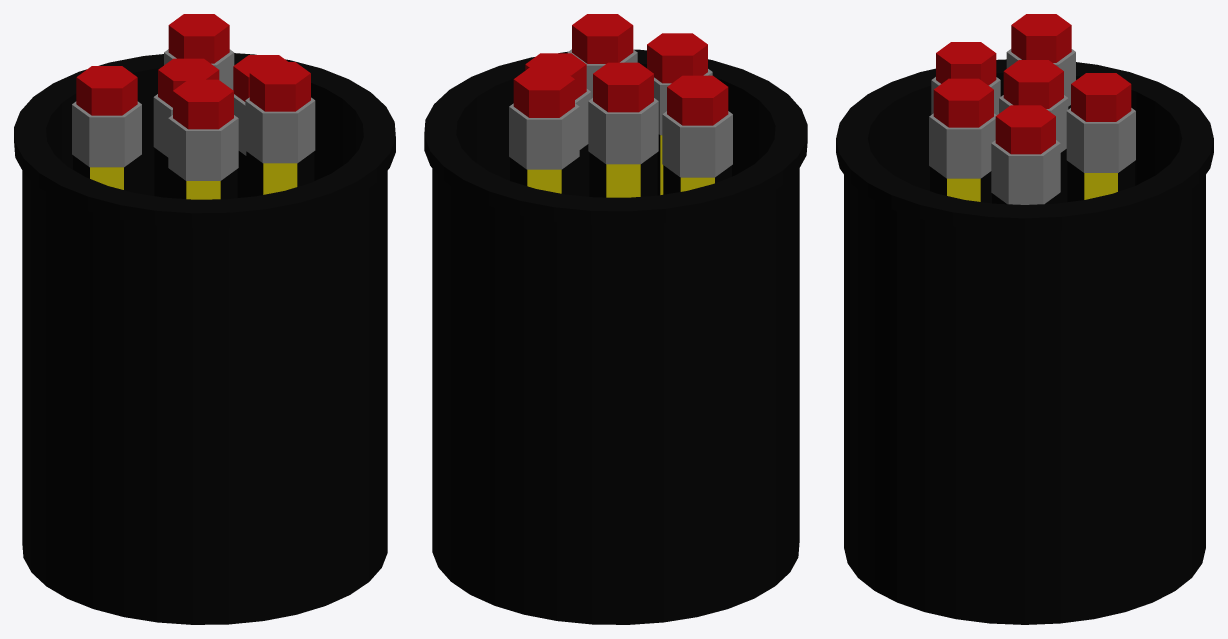
Rendered from Olovke.fbx.
3 views of the same model, side by side, from view 1: azimuth 30°, elevation 25°; view 2: azimuth 150°, elevation 25°; view 3: azimuth 270°, elevation 25° (orthographic).
Visible parts, largest first — view 1: Circle, Cone.005, Cone.004, Cone.002, Cone.006, Cone, Cone.001; view 2: Circle, Cone, Cone.006, Cone.002, Cone.004, Cone.005, Cone.001; view 3: Circle, Cone.006, Cone.005, Cone.001, Cone, Cone.002, Cone.004.
Boxes of the visible parts, x1,y1,x2,y2 form: Circle: (14,53,395,624); Cone.005: (245,62,315,197); Cone.004: (168,79,238,199); Cone.002: (72,66,141,193); Cone.006: (164,14,234,89); Cone: (153,58,219,197); Cone.001: (233,55,287,197); Circle: (424,49,807,624); Cone: (588,62,658,197); Cone.006: (509,68,579,195); Cone.002: (662,75,732,194); Cone.004: (647,33,712,195); Cone.005: (567,14,637,98); Cone.001: (525,53,591,196); Circle: (836,59,1213,624); Cone.006: (1066,73,1135,202); Cone.005: (929,78,996,203); Cone.001: (991,105,1060,204); Cone: (999,60,1068,202); Cone.002: (1006,14,1075,109); Cone.004: (931,42,1000,114).
Bounding box in the file's own units: 209 × 293 × 209.
